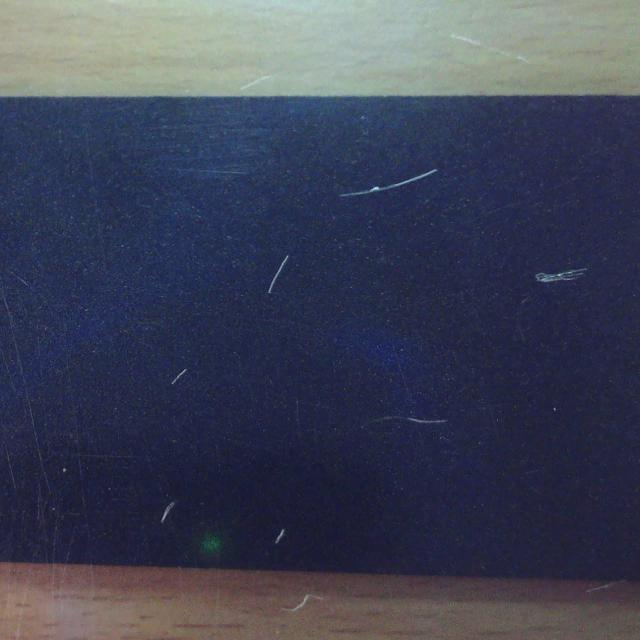defect: (340, 169, 438, 198), (357, 410, 451, 435), (532, 258, 594, 291), (263, 249, 295, 297), (266, 524, 293, 549), (166, 363, 193, 387), (158, 500, 178, 523)
